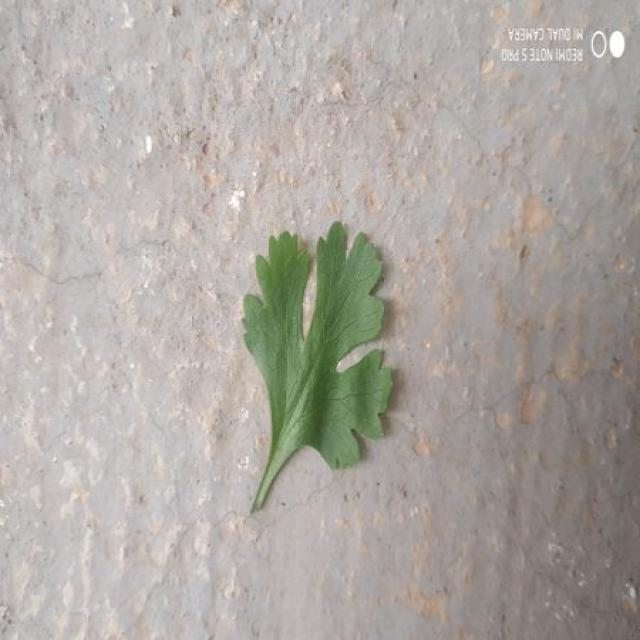coriender: (243, 222, 392, 511)
